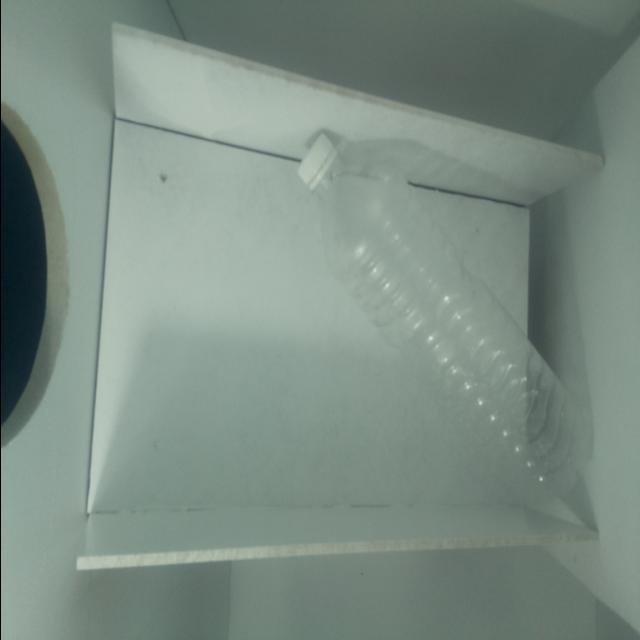good: (253, 109, 600, 507)
